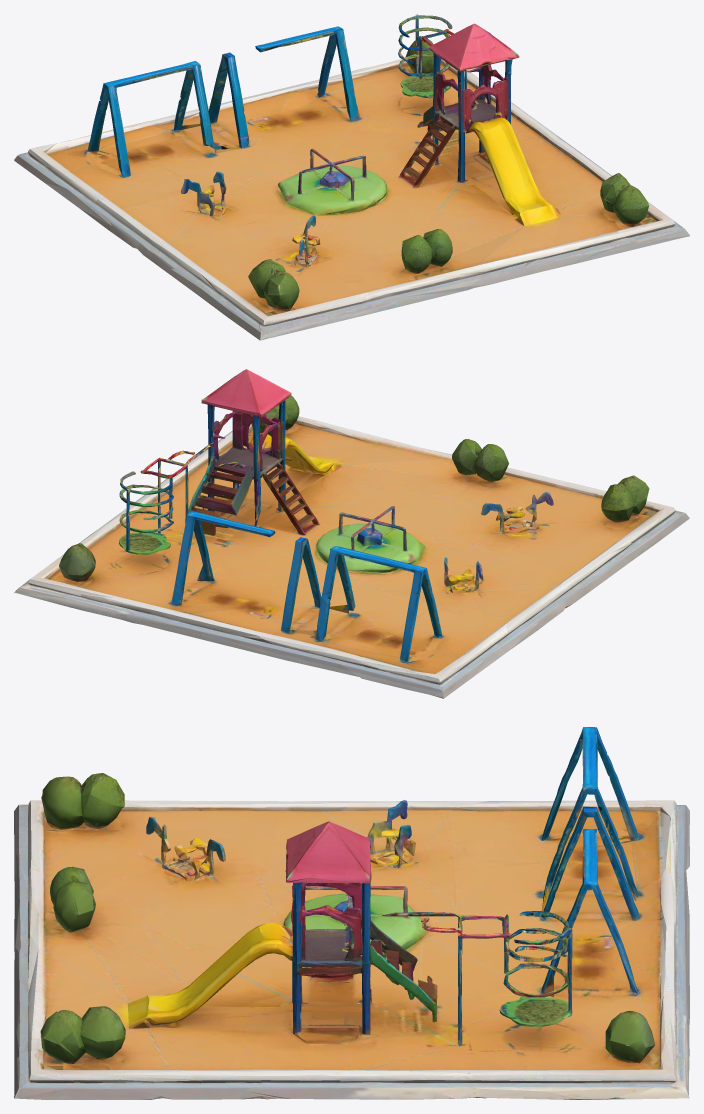
The model's file is park.glb.
3 renders of one model, top to bottom at view 1: azimuth 30°, elevation 25°; view 2: azimuth 150°, elevation 25°; view 3: azimuth 270°, elevation 25°, orthographic. The views are drawn at different scales.
Visible parts, largest first — view 1: output_unwrapped; view 2: output_unwrapped; view 3: output_unwrapped.
Part boxes in pixels (<box>): output_unwrapped: <box>14,14,689,340</box>; output_unwrapped: <box>14,369,689,698</box>; output_unwrapped: <box>14,727,689,1099</box>.
Bounding box in the file's own units: 11.75 × 4 × 11.64.
1 material, 1 textured.
